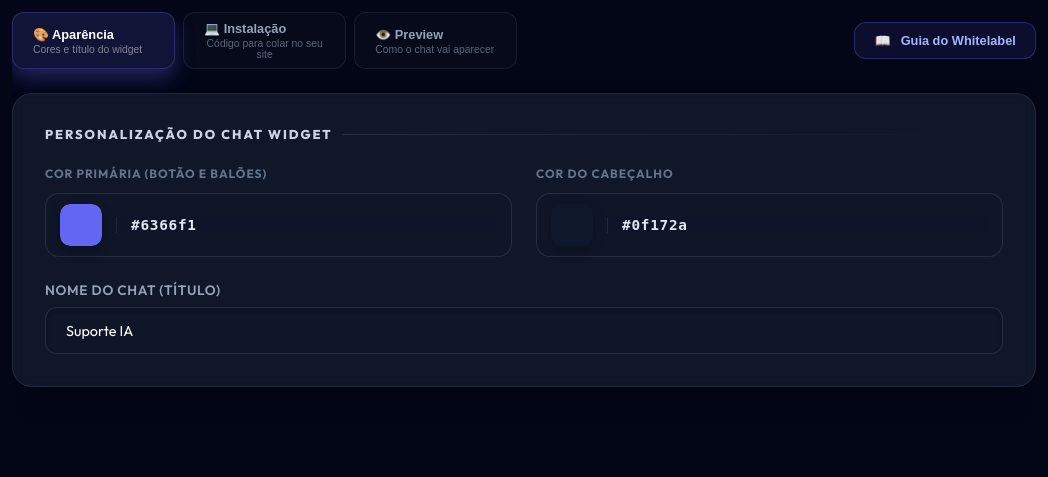
Scenario: TabWhitelabel — Copiar Snippet › deve renderizar o botão de copiar código com a classe copy-btn-floating
The width and height of the screenshot is (1048, 477).
Step 1. Click the text "💻 Instalação" → (245, 28), box x1=204 y1=21 x2=286 y2=36
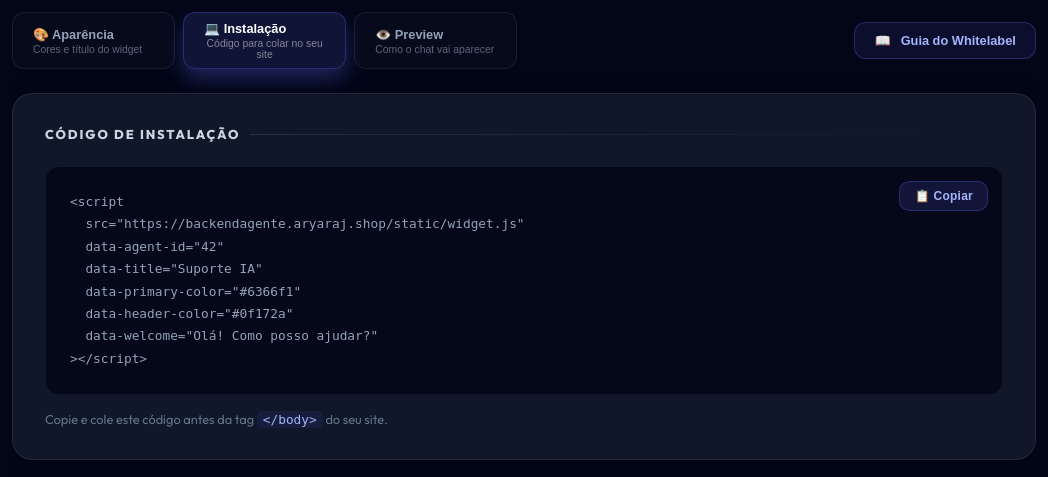
Now the button with id "whitelabel-copy-btn" is shown, box x1=899 y1=181 x2=988 y2=211
